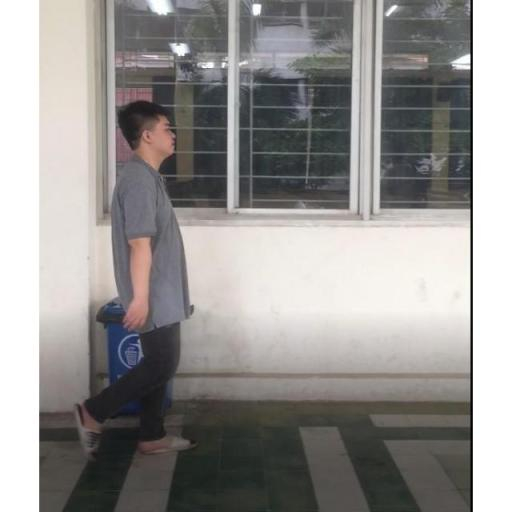Running: (67, 94, 200, 458)
